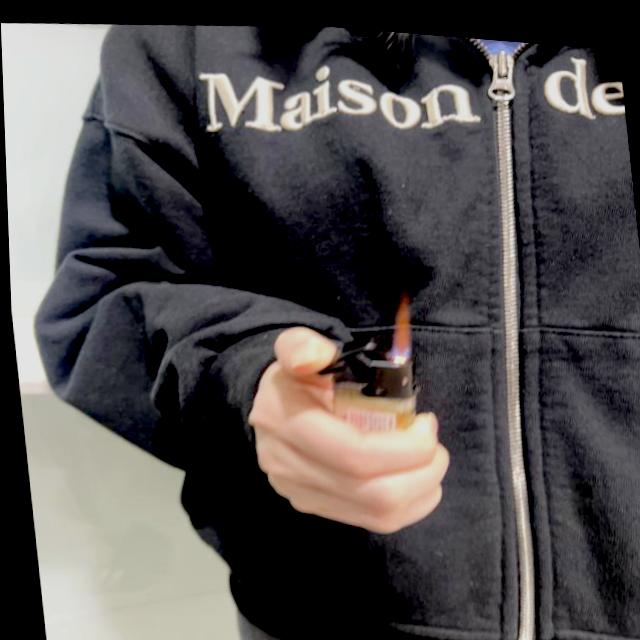helmet: (382, 279, 410, 354)
